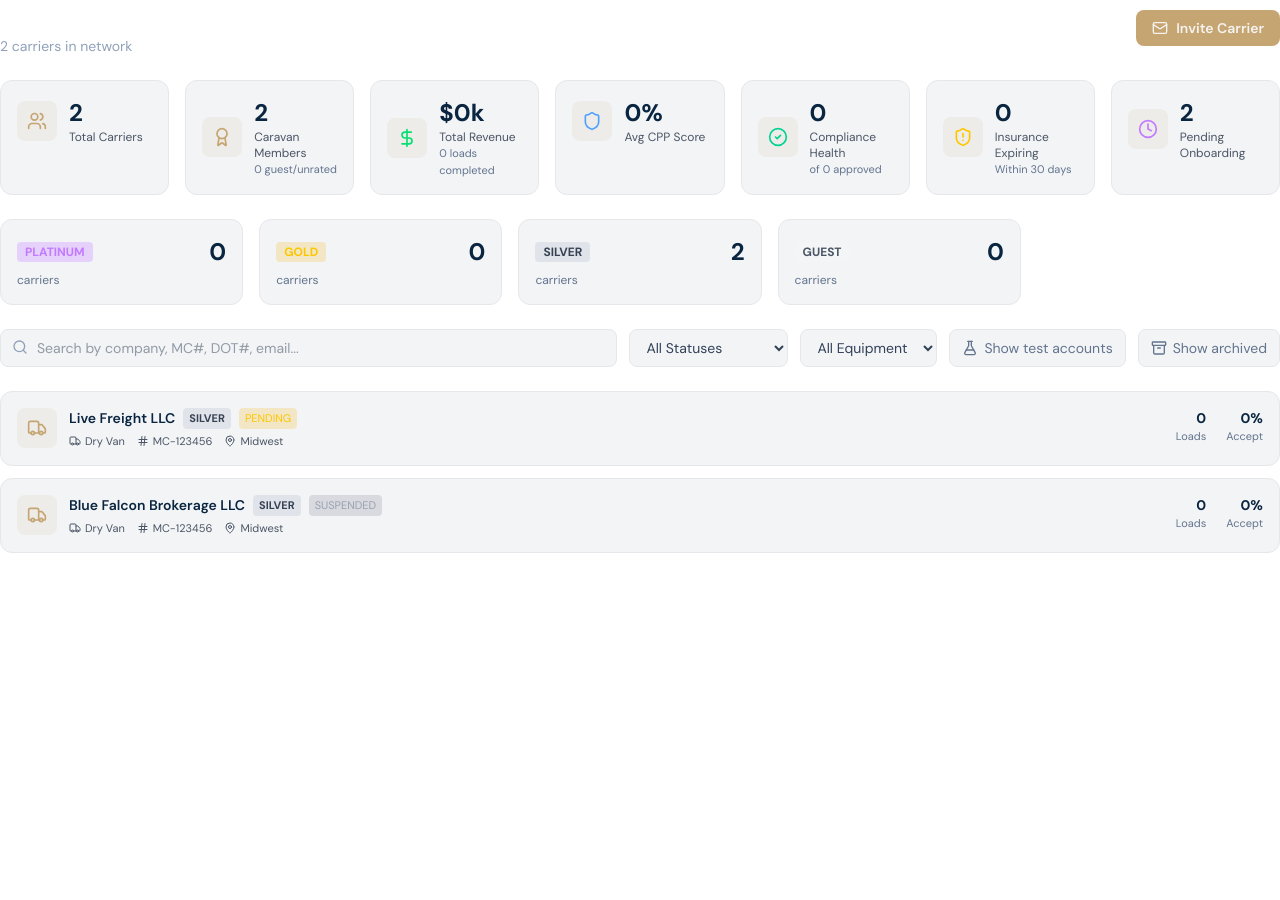
Lift suspension — the exit from SUSPENDED › on a suspended carrier: Lift suspension… replaces the dead-end Approve and Reject
The width and height of the screenshot is (1280, 900).
Expected: the text "Blue Falcon Brokerage LLC" is shown, [69,495,245,515]
Step 1. Click the button "Blue Falcon Brokerage LLC" → (37, 515), box [0,478,1279,553]
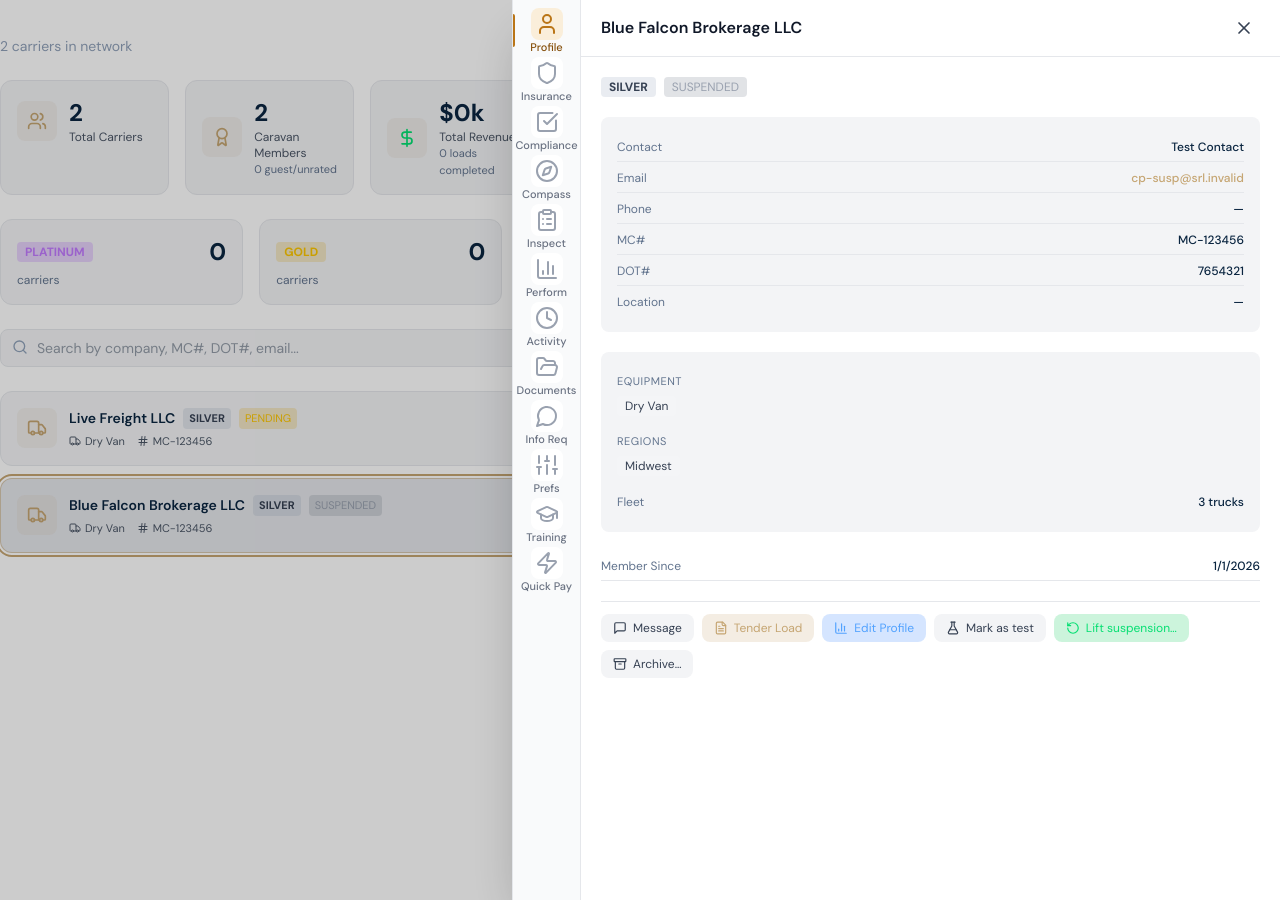
Now the button "Lift suspension…" is enabled, box [1054,614,1189,642]
